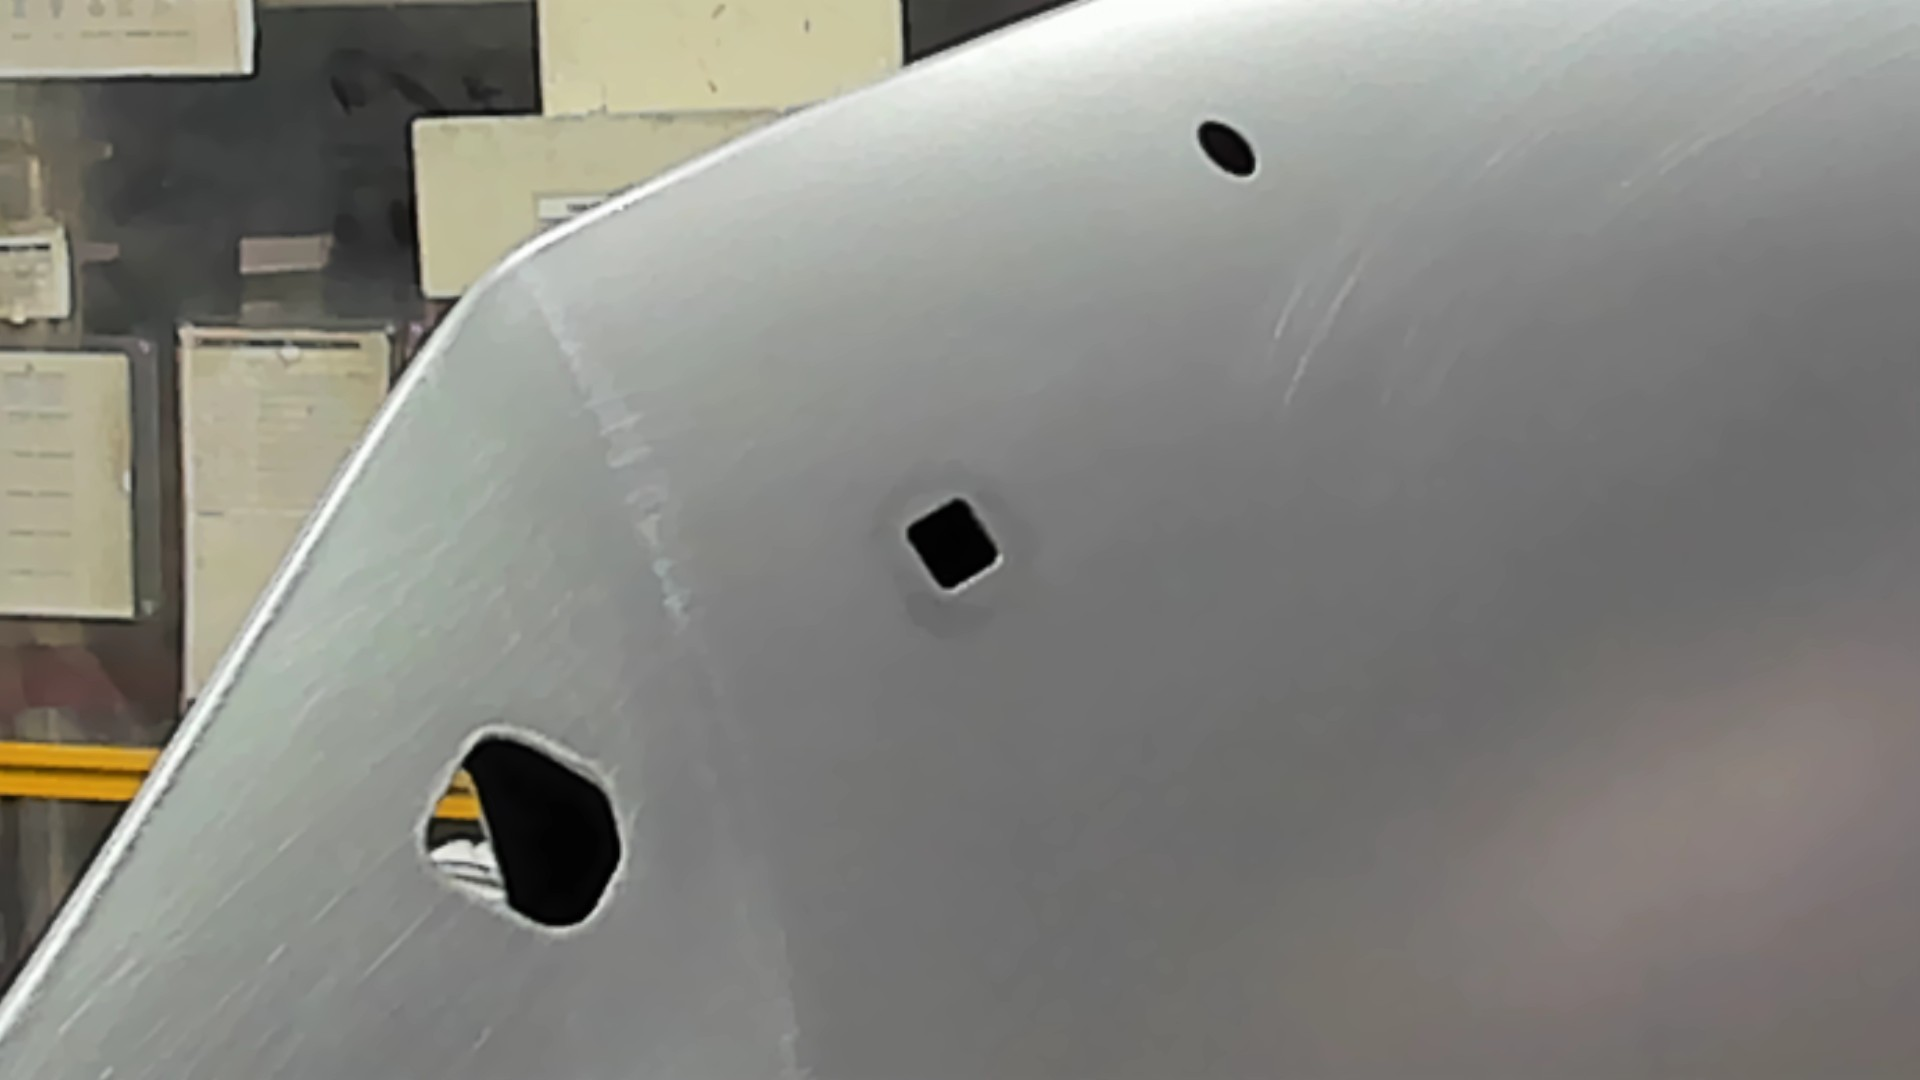chico: (1195, 117, 1261, 179)
grande: (410, 723, 632, 938)
mediano: (899, 492, 1007, 599)
